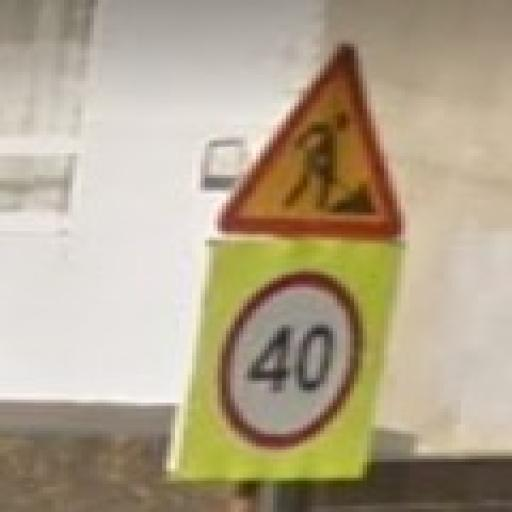traffic_sign: (215, 42, 407, 238), (219, 270, 368, 448)
